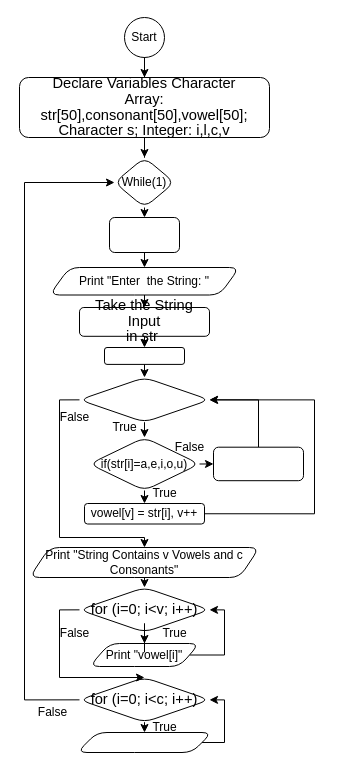
This 340x770 diagram has some shape labels left out. The shapes that lost their labels are listed below. From the top down, each one's centre as x and y in pixels, then its label:
(x=144, y=234): c=0, v=0
(x=144, y=355): l = strlen(str)
(x=144, y=399): for (i=0; i<l; i++)
(x=258, y=463): consonant[c] = str[i], c++
(x=144, y=742): Print "consonants[i]"
